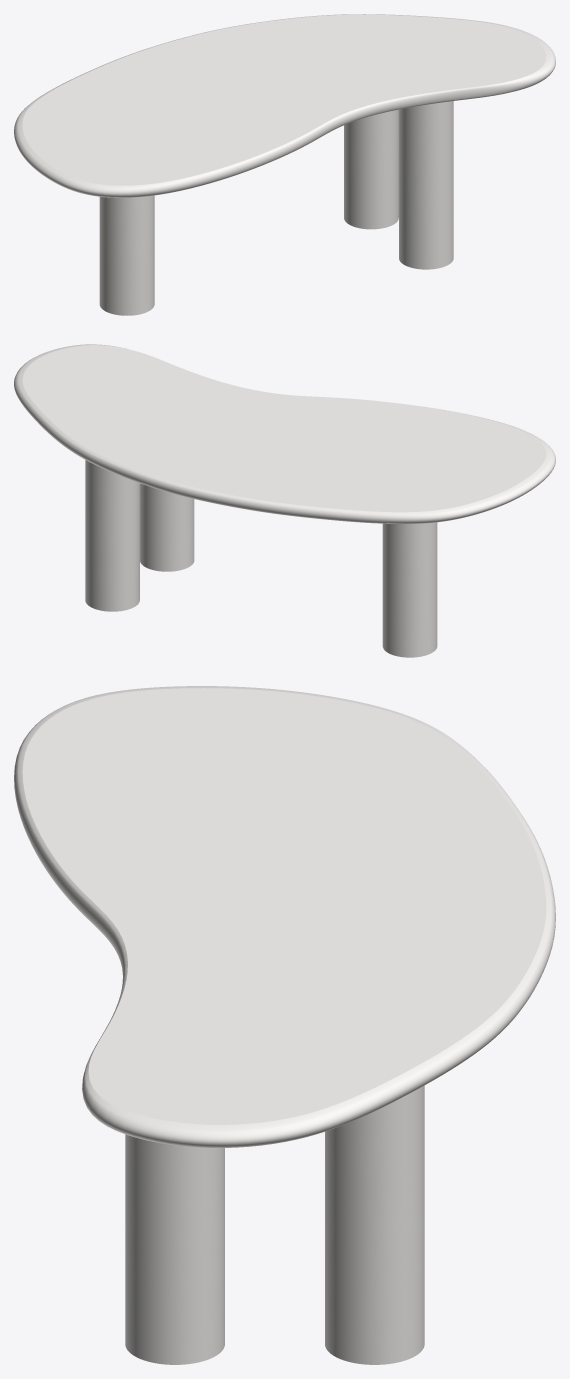
Rendered from purewhite_leaf1_round_cylinder.glb.
3 renders of one model, top to bottom at view 1: azimuth 30°, elevation 25°; view 2: azimuth 150°, elevation 25°; view 3: azimuth 270°, elevation 25°, orthographic. The views are drawn at different scales.
Visible parts, largest first — view 1: round_leaf1, cylinder; view 2: round_leaf1, cylinder; view 3: round_leaf1, cylinder.
Boxes of the visible parts, x1=… form: round_leaf1: x1=14, y1=14, x2=555, y2=197; cylinder: x1=99, y1=101, x2=453, y2=315; round_leaf1: x1=14, y1=344, x2=555, y2=523; cylinder: x1=85, y1=460, x2=437, y2=657; round_leaf1: x1=14, y1=686, x2=555, y2=1147; cylinder: x1=125, y1=1085, x2=424, y2=1364.
Bounding box in the file's own units: 7.5 × 2.53 × 3.8.
Materials: 1 (1 with a texture image).
